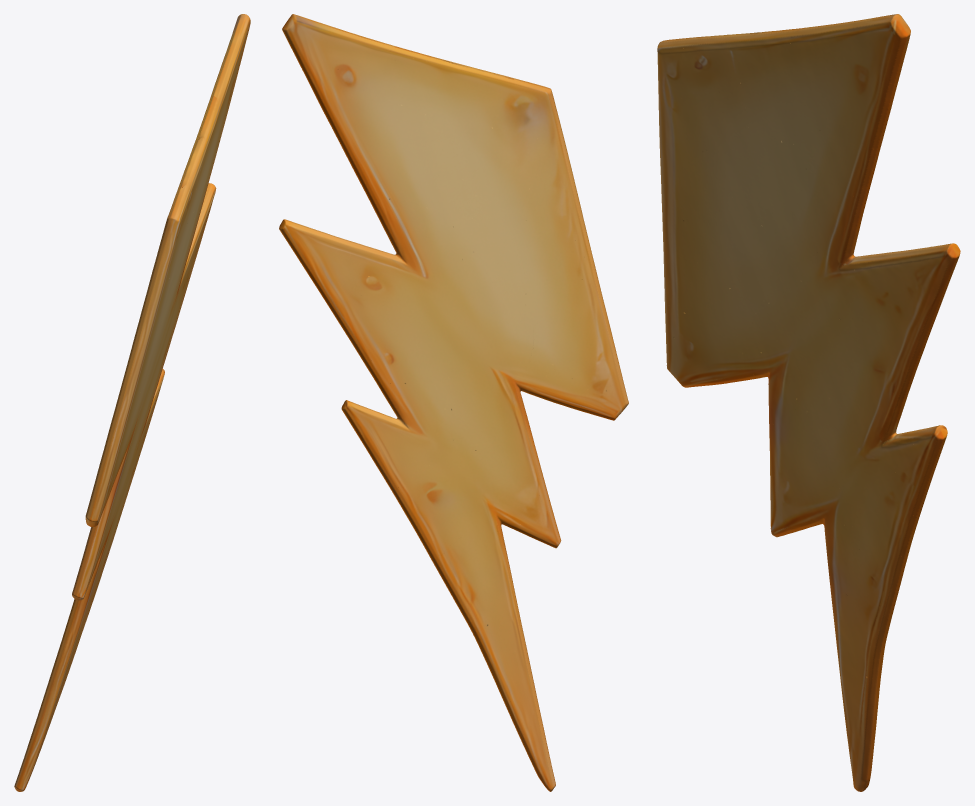
File: Rayo.glb
The picture shows the model from 3 angles, left to right: view 1: azimuth 30°, elevation 25°; view 2: azimuth 150°, elevation 25°; view 3: azimuth 270°, elevation 25°; orthographic projection. The views are drawn at different scales.
Parts seen in each view (by area): view 1: texture_pbr_v128; view 2: texture_pbr_v128; view 3: texture_pbr_v128.
Boxes of the visible parts, x1,y1,x2,y2 form: texture_pbr_v128: (14, 14, 250, 791); texture_pbr_v128: (279, 14, 628, 791); texture_pbr_v128: (657, 14, 960, 791).
Size of the model in its own units: 0.4127 by 1.12 by 0.3316.
Materials: 1 (1 with a texture image).
